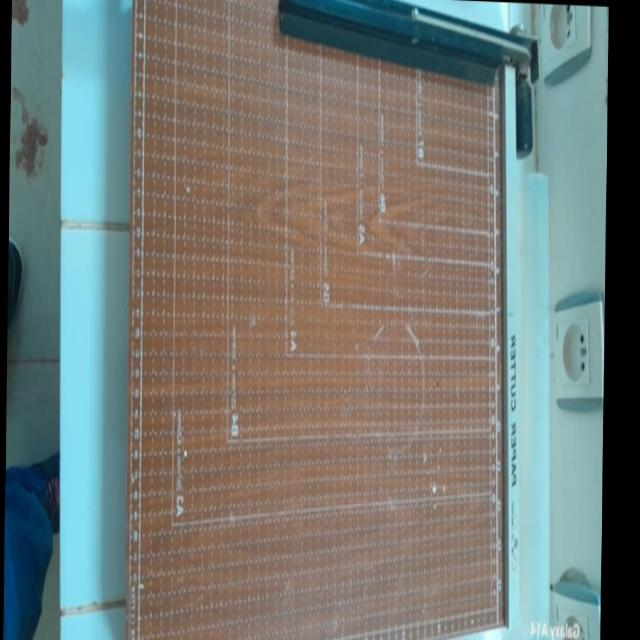TLC Cutter: (85, 0, 552, 640)
